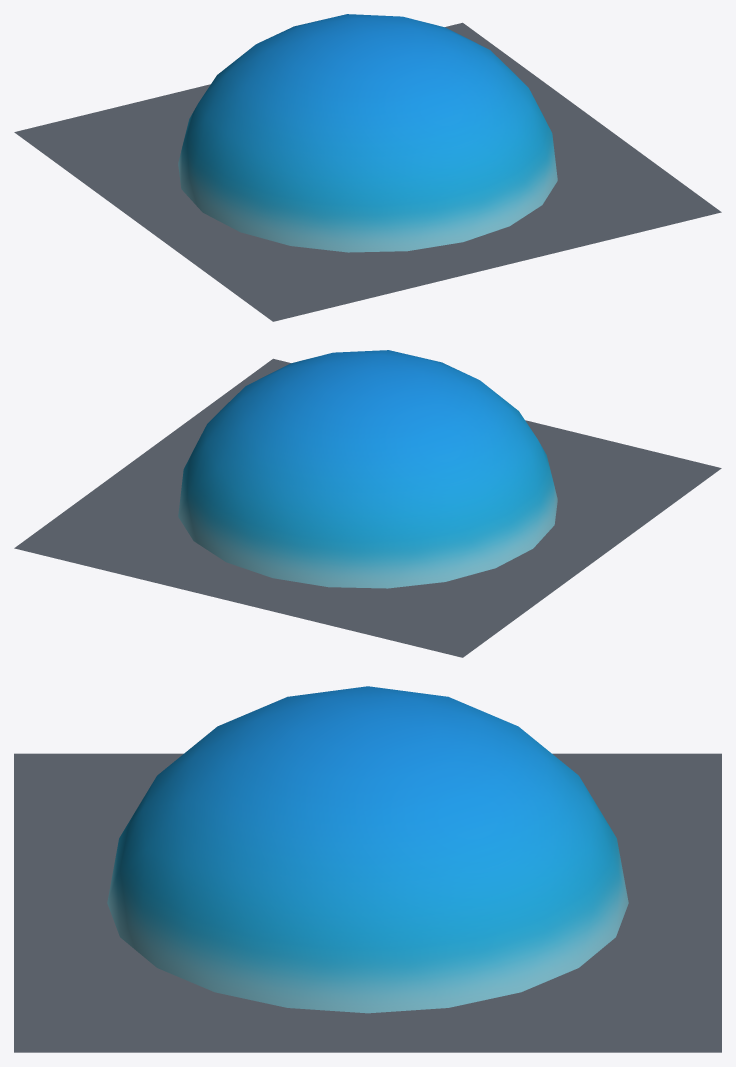
3 views of the same model, one above another, from view 1: azimuth 30°, elevation 25°; view 2: azimuth 150°, elevation 25°; view 3: azimuth 270°, elevation 25° (orthographic). The views are drawn at different scales.
Visible parts, largest first — view 1: Skydome, Plane; view 2: Skydome, Plane; view 3: Skydome, Plane.
Part boxes in pixels (x1,y1,x2,y2): Skydome: (178,14,557,252); Plane: (14,22,721,321); Skydome: (178,350,557,588); Plane: (14,358,721,657); Skydome: (107,686,628,1013); Plane: (14,753,721,1052).
Size of the model in its own units: 200 by 58.43 by 200.
6 materials, 1 textured.
